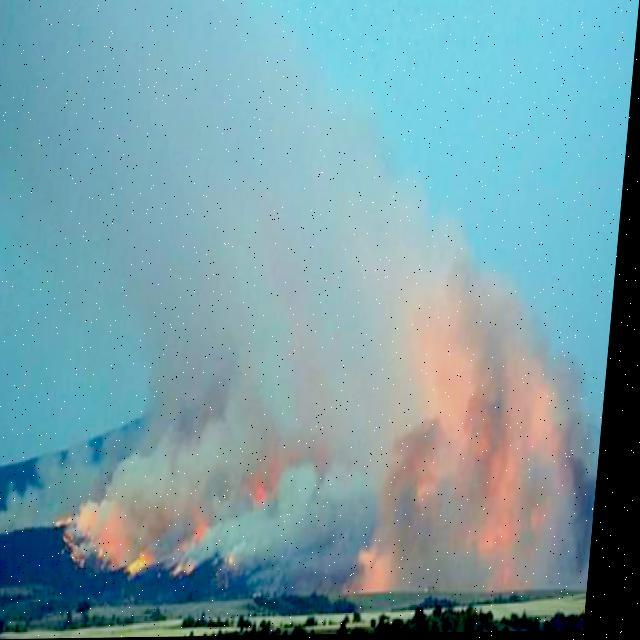Fire: (404, 407, 578, 580), (82, 513, 166, 577)
